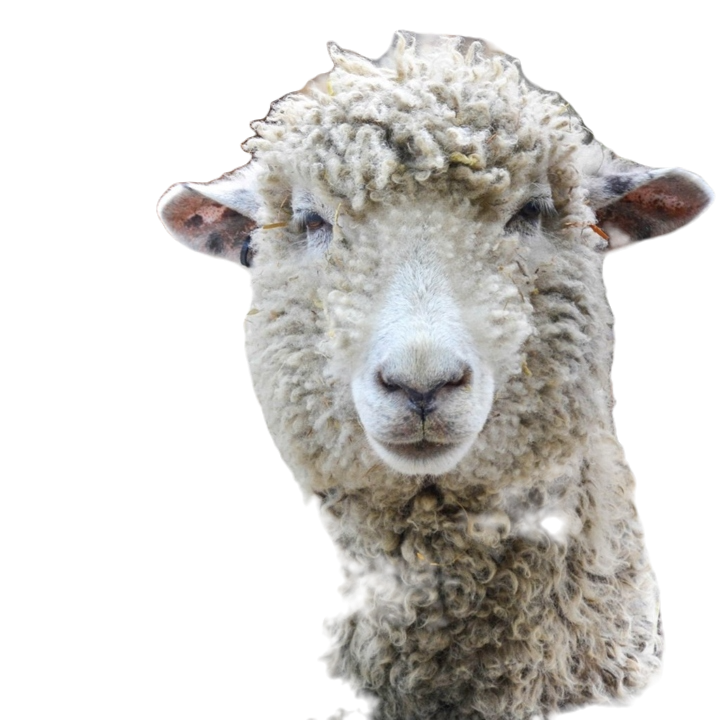Sheep: (149, 25, 715, 719)
